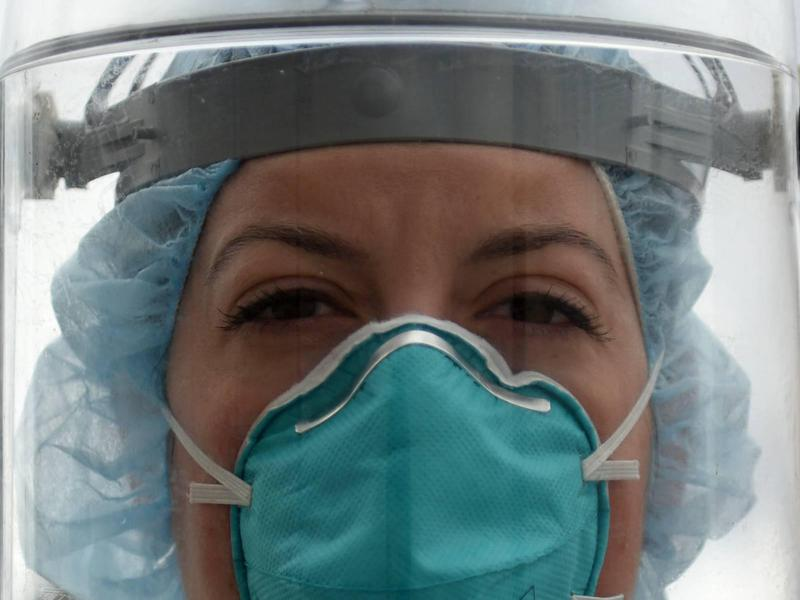with_mask: (167, 148, 660, 598)
